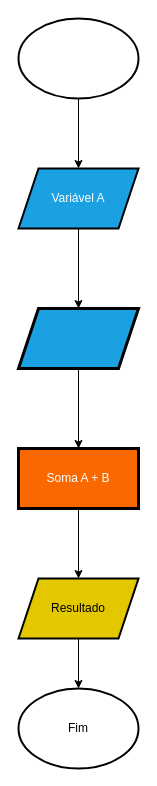
Some shapes in this 157 by 786 pixel diagram are drawn without their labels. The shapes that lost their labels are listed below. From the top down, each one's centre as x and y in pixels, then its label:
At [78,58]: "Início".
At [78,338]: "Variavel B".
